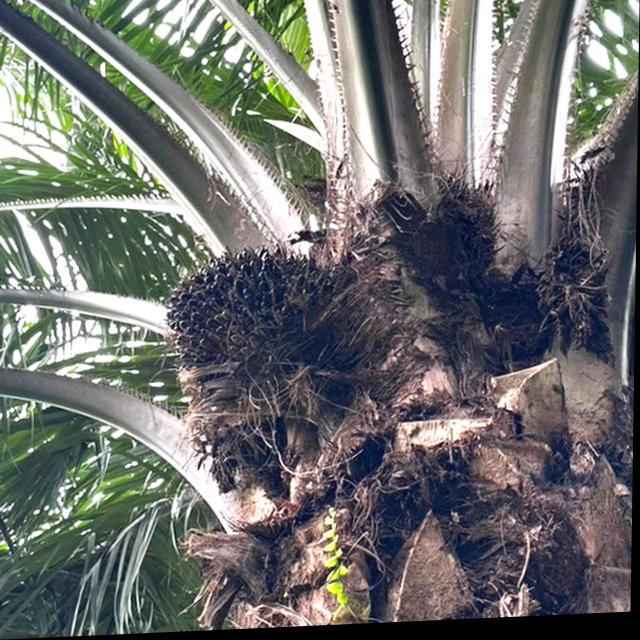unripe: (163, 239, 370, 408)
